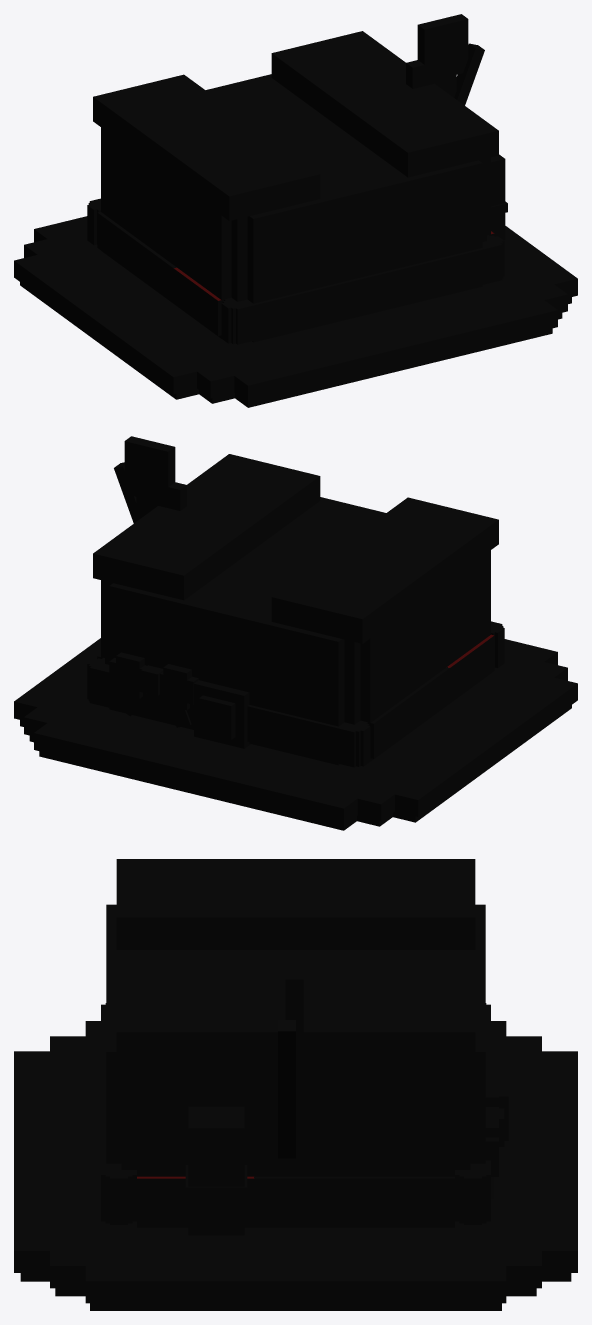
The model's file is hat_trailblazer.obj.
3 renders of one model, top to bottom at view 1: azimuth 30°, elevation 25°; view 2: azimuth 150°, elevation 25°; view 3: azimuth 270°, elevation 25°, orthographic. The views are drawn at different scales.
Size of the model in its own units: 0.75 by 0.42 by 0.6875.
